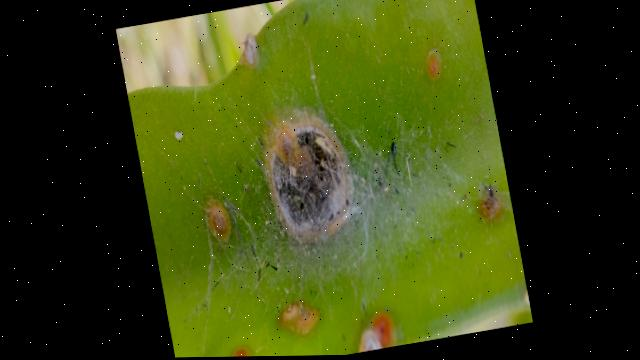stemcanker: (275, 298, 323, 340), (202, 198, 239, 248), (470, 181, 508, 225), (419, 46, 450, 83)
